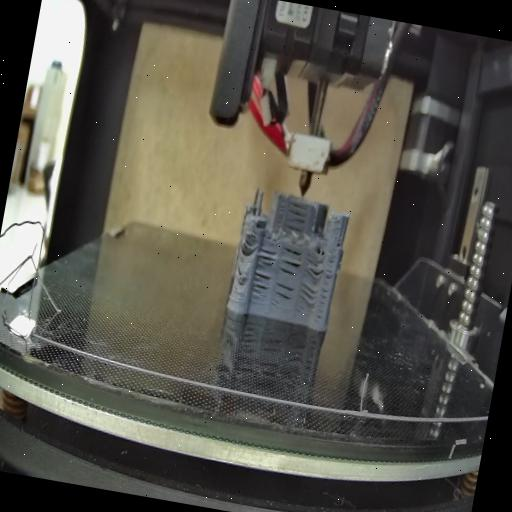cracks: (280, 198, 310, 234), (314, 263, 332, 322), (276, 247, 303, 278), (248, 269, 272, 302), (269, 280, 295, 310), (295, 282, 317, 306), (256, 245, 276, 269), (237, 234, 257, 256), (304, 257, 324, 278), (232, 260, 246, 276), (334, 234, 343, 252)
